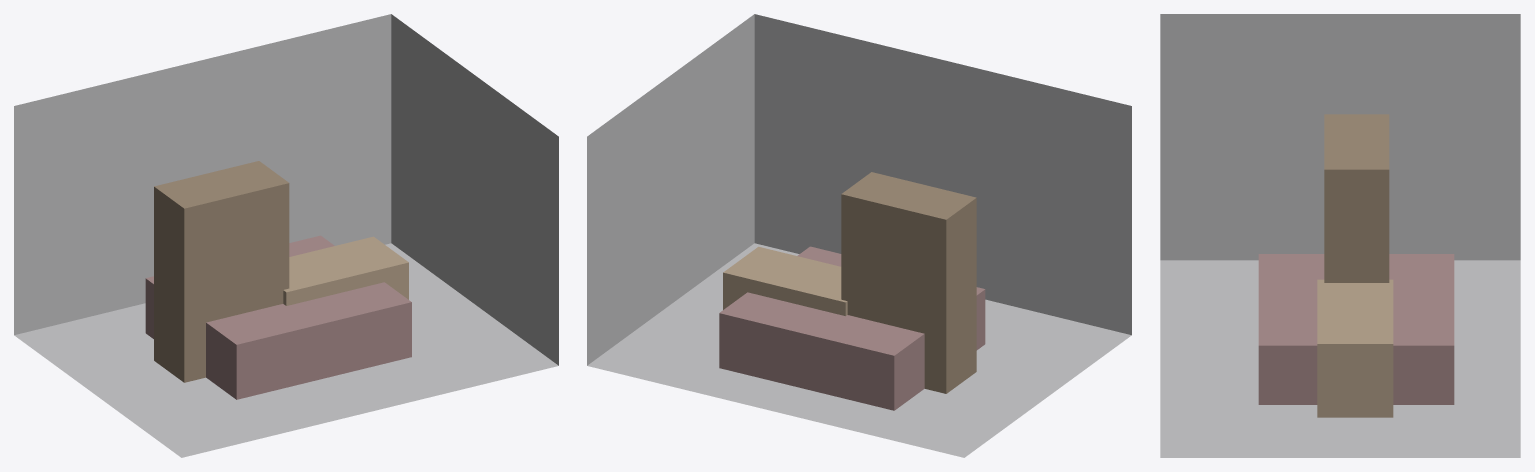
The model's file is current_layout.glb.
3 renders of one model, left to right at view 1: azimuth 30°, elevation 25°; view 2: azimuth 150°, elevation 25°; view 3: azimuth 270°, elevation 25°, orthographic. The views are drawn at different scales.
Parts seen in each view (by area): view 1: room, wardrobe, bed, desk; view 2: room, wardrobe, bed, desk; view 3: room, bed, wardrobe, desk.
Part boxes in pixels (x1,y1,x2,y2): room: [14, 14, 558, 457]; wardrobe: [154, 161, 289, 382]; bed: [145, 235, 411, 399]; desk: [283, 236, 408, 305]; room: [587, 14, 1131, 457]; wardrobe: [841, 172, 976, 393]; bed: [719, 246, 985, 410]; desk: [723, 246, 847, 316]; room: [1160, 14, 1520, 457]; bed: [1258, 254, 1454, 404]; wardrobe: [1324, 114, 1389, 282]; desk: [1317, 279, 1393, 417].
Bounding box in the file's own units: 4.31 × 2.5 × 3.31.
